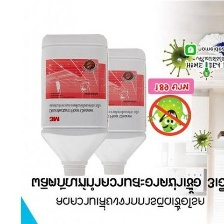cleaning_solution: (37, 29, 110, 178), (78, 44, 148, 176)
